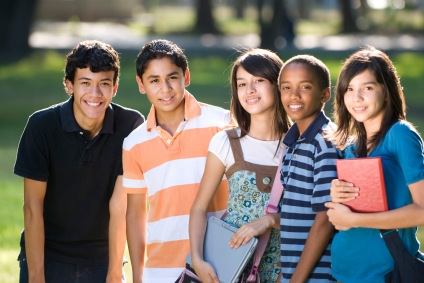bare: (74, 88, 114, 117), (280, 91, 319, 120), (344, 93, 383, 121), (145, 84, 186, 109), (236, 90, 276, 112)
